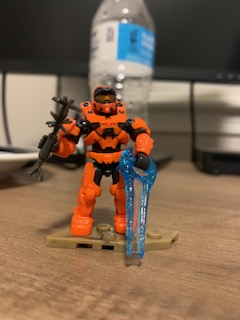spartan: (37, 86, 157, 236)
